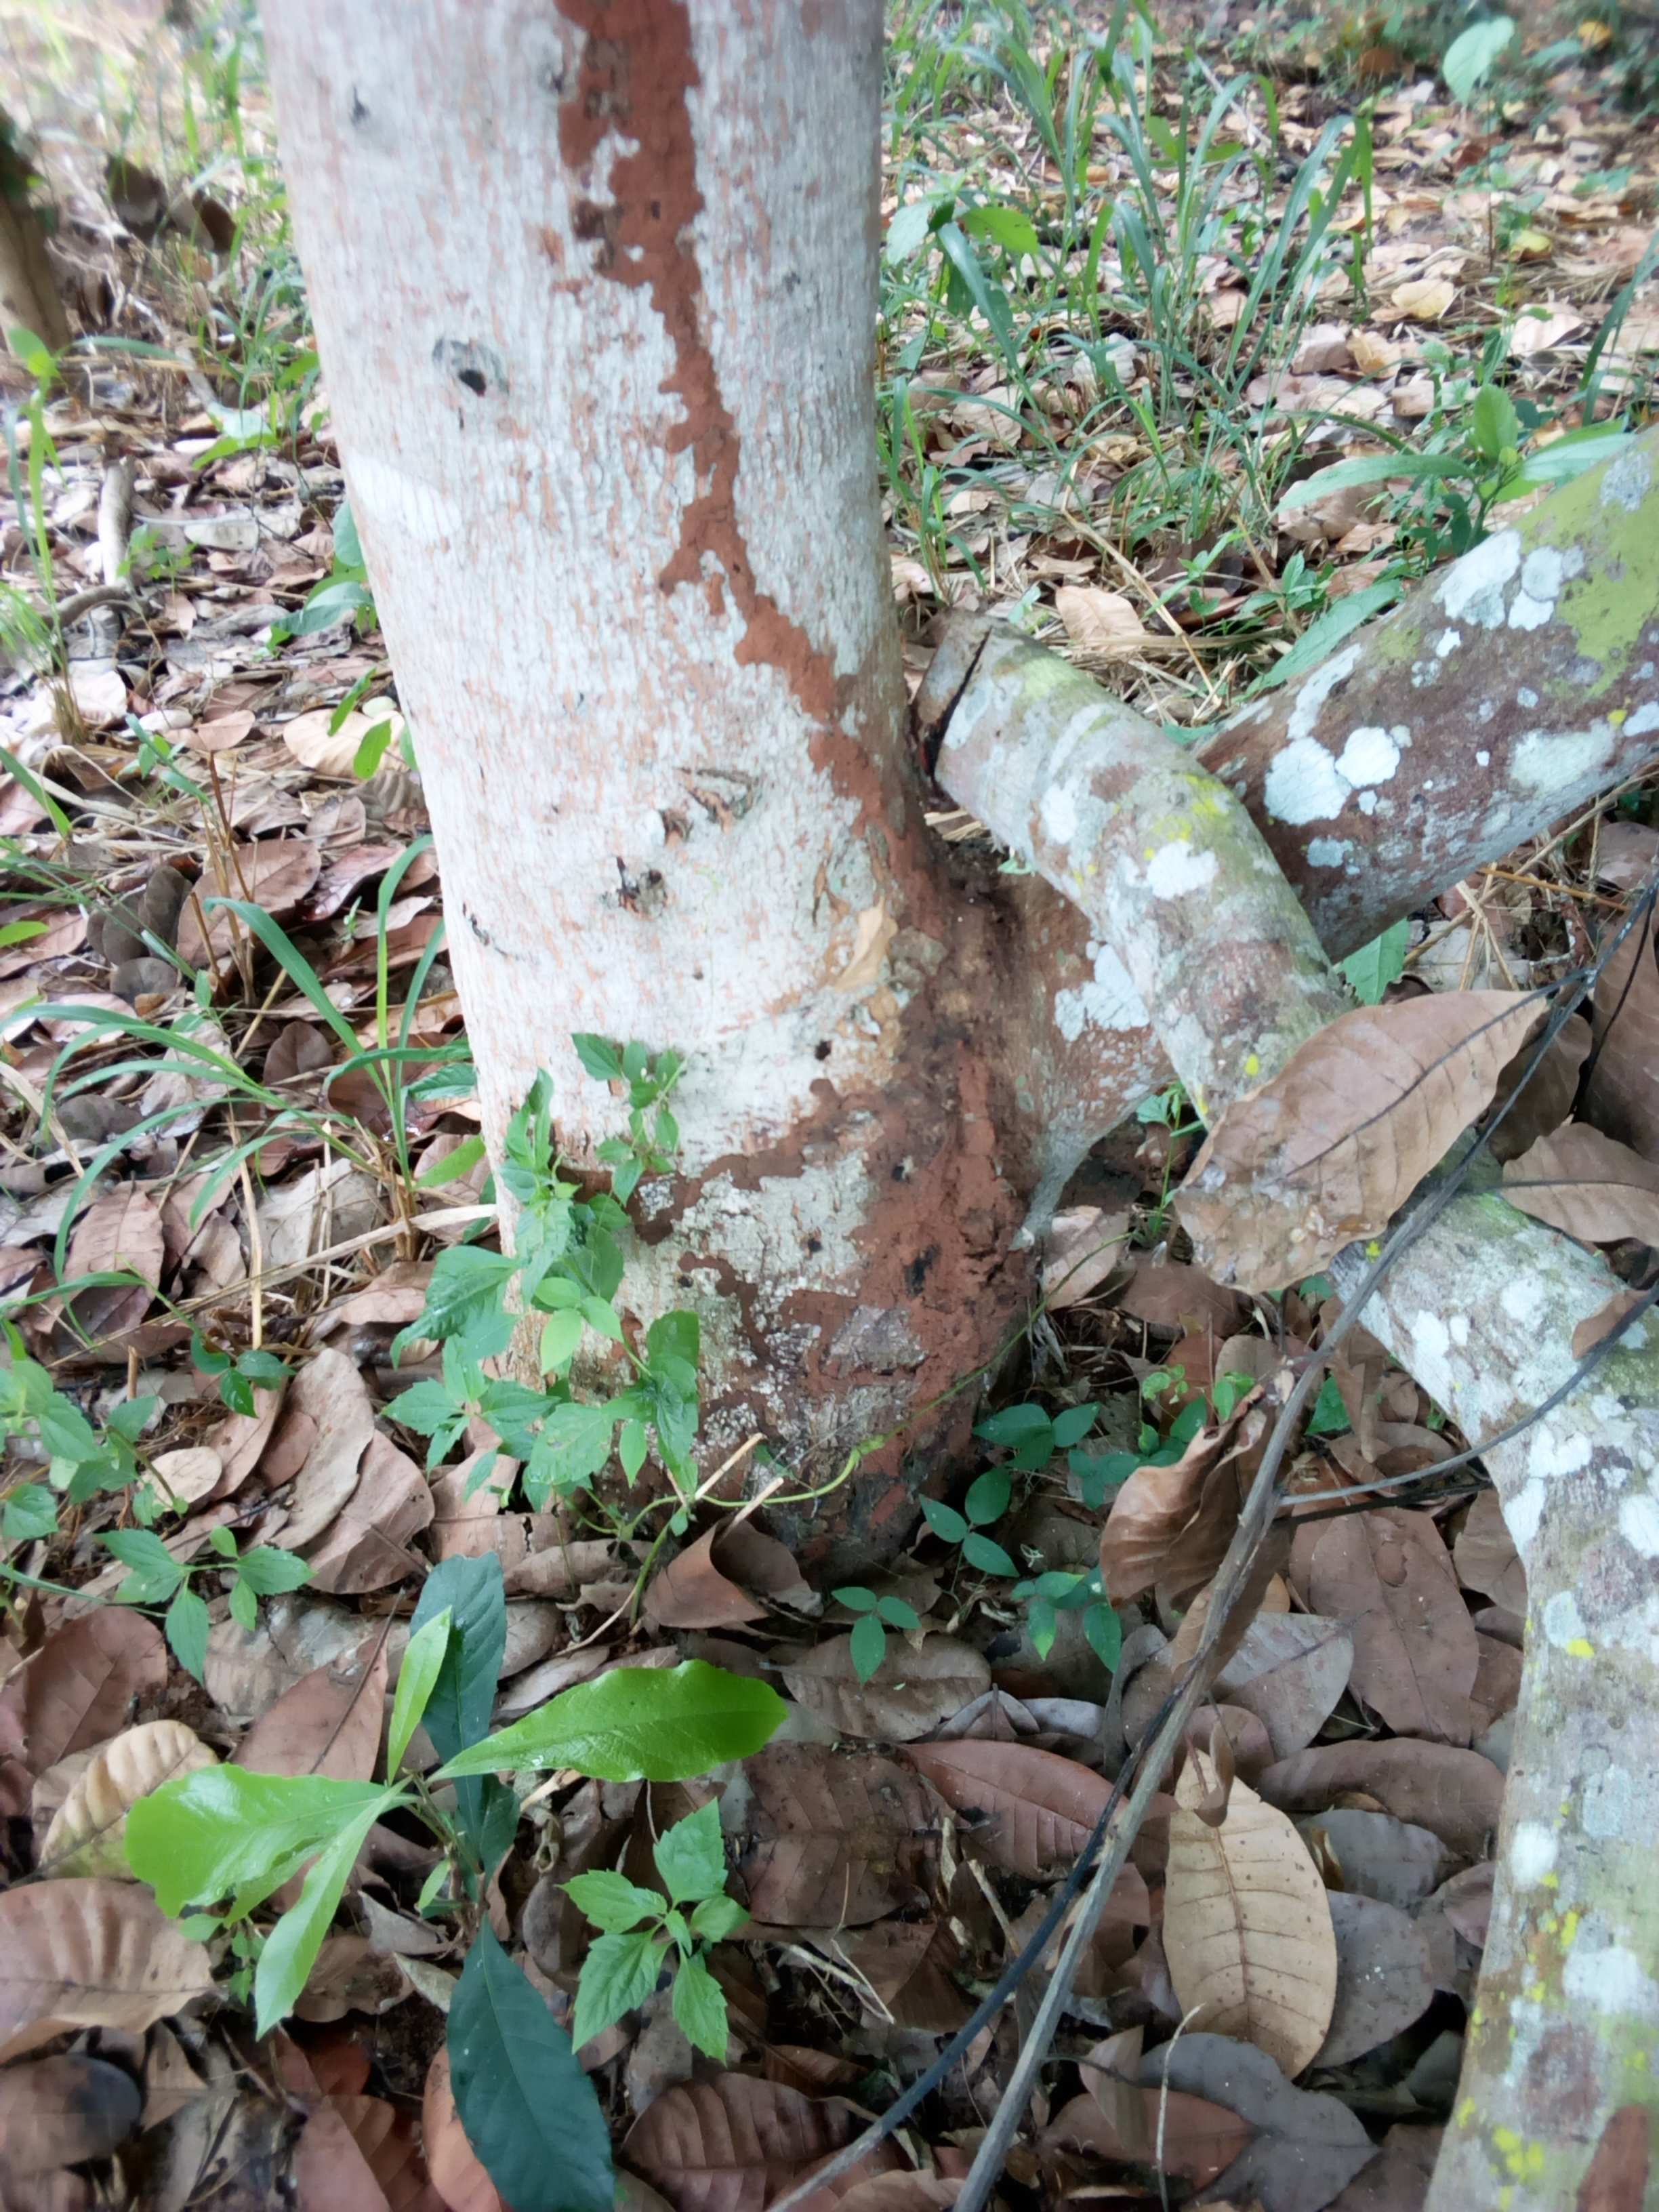Termites: (579, 2, 1012, 960), (676, 1017, 1037, 1515)
